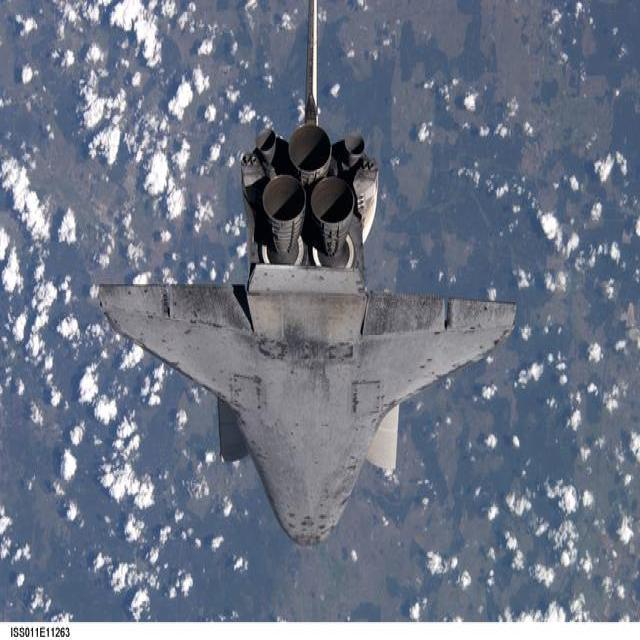satellite: (100, 123, 515, 544)
